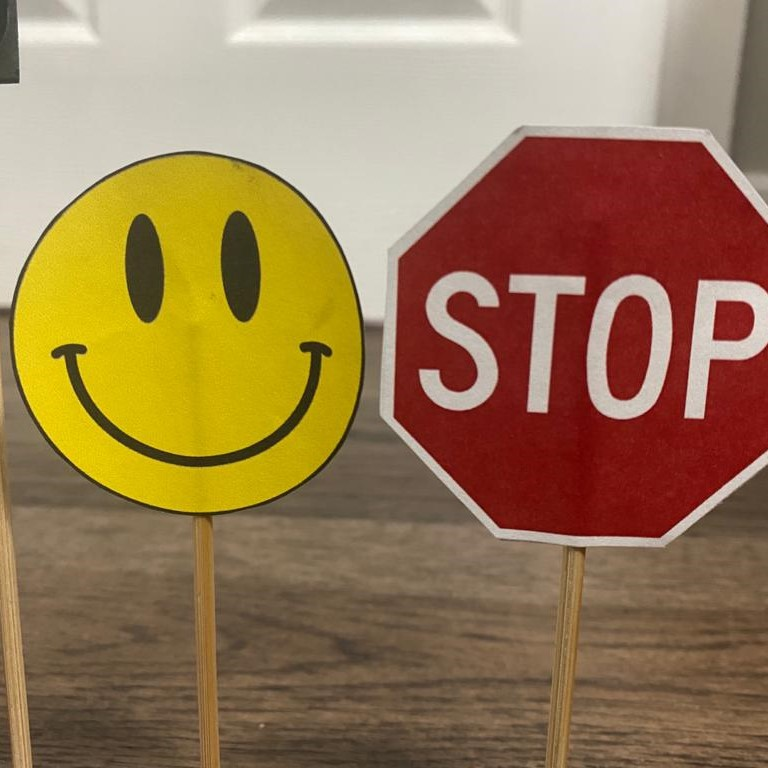Person: (6, 146, 365, 515)
Stop Sign: (377, 119, 768, 551)
